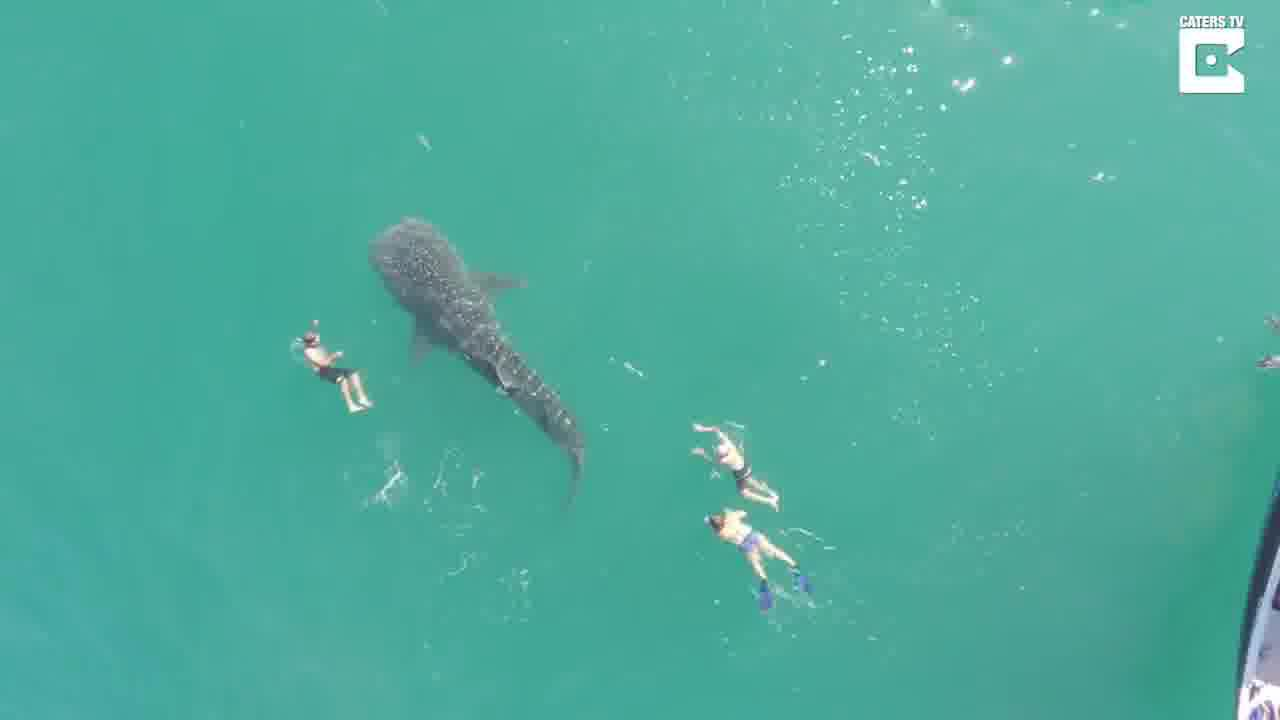human: (696, 508, 805, 605), (299, 321, 380, 433), (690, 423, 786, 511)
